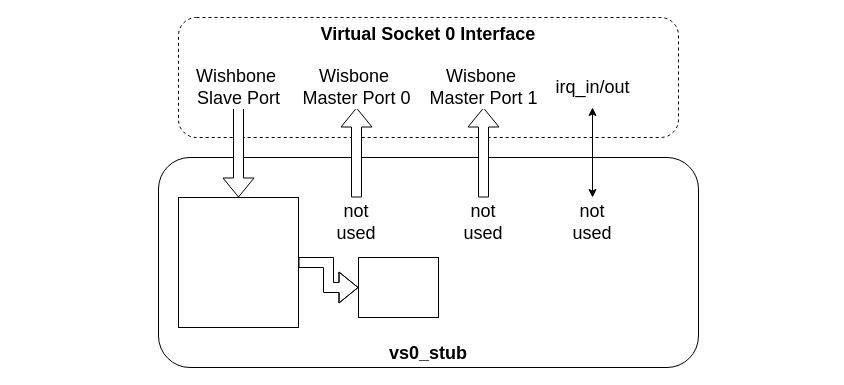
This 844x385 diagram has some shape labels left out. The shapes that lost their labels are listed below. From the top down, each one's box as (x1, y1, x2, y2) in pixels, then its label:
(178, 196, 298, 328): Register Interface
(358, 256, 438, 318): signature reg.
